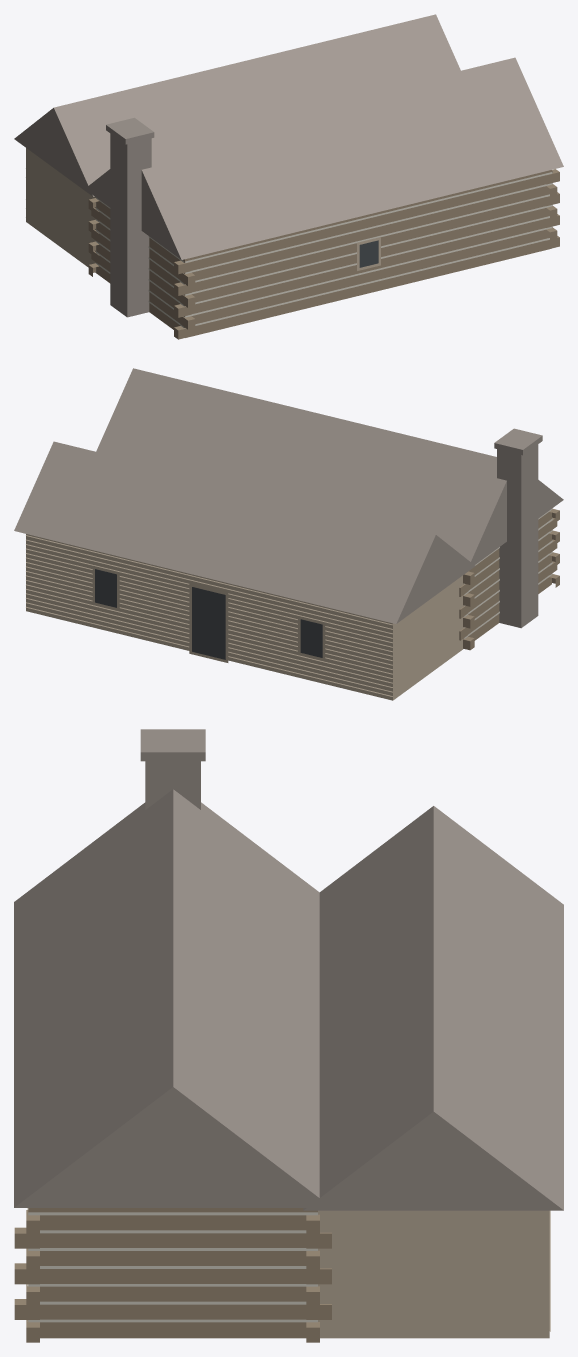
Rendered from mansion_house__log_frame_1833.glb.
3 renders of one model, top to bottom at view 1: azimuth 30°, elevation 25°; view 2: azimuth 150°, elevation 25°; view 3: azimuth 270°, elevation 25°, orthographic. The views are drawn at different scales.
Parts seen in each view (by area): view 1: mansion_house__log_frame_1833; view 2: mansion_house__log_frame_1833; view 3: mansion_house__log_frame_1833.
Part boxes in pixels (x1,y1,x2,y2): mansion_house__log_frame_1833: (14, 14, 563, 339); mansion_house__log_frame_1833: (14, 368, 563, 700); mansion_house__log_frame_1833: (14, 729, 563, 1342).
Size of the model in its own units: 13.07 by 5.69 by 9.5.
